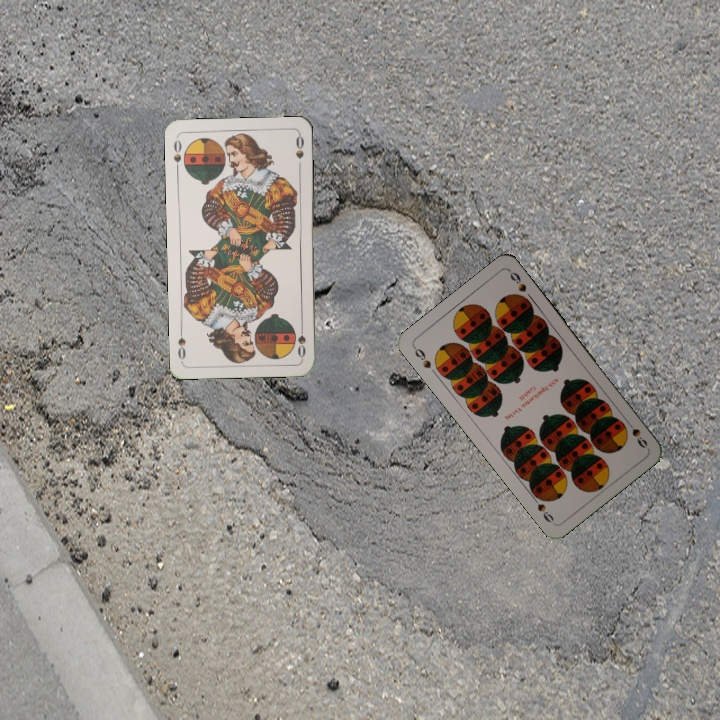S9: (621, 415, 650, 451), (409, 343, 434, 371)
SO: (294, 320, 309, 360), (169, 134, 184, 174)
